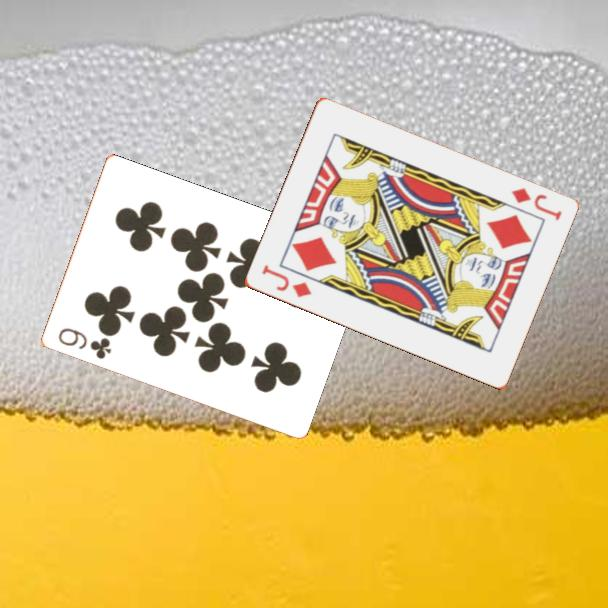c09: (54, 324, 114, 362)
d11: (507, 184, 564, 224), (258, 261, 314, 301)
